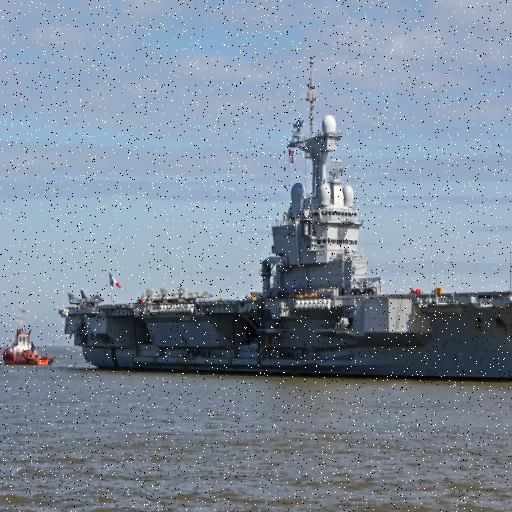Portanaves: (57, 39, 512, 393)
